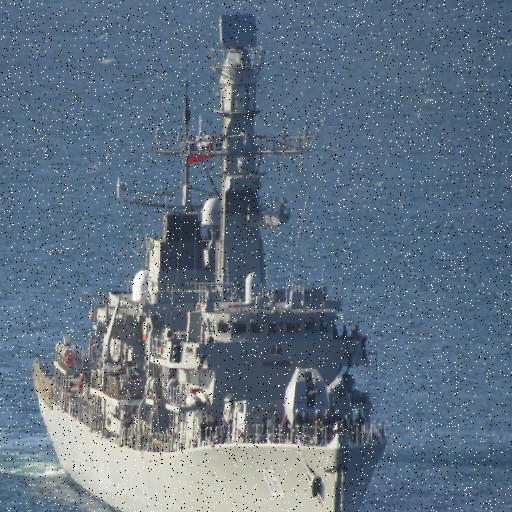Fragata: (26, 1, 387, 512)
